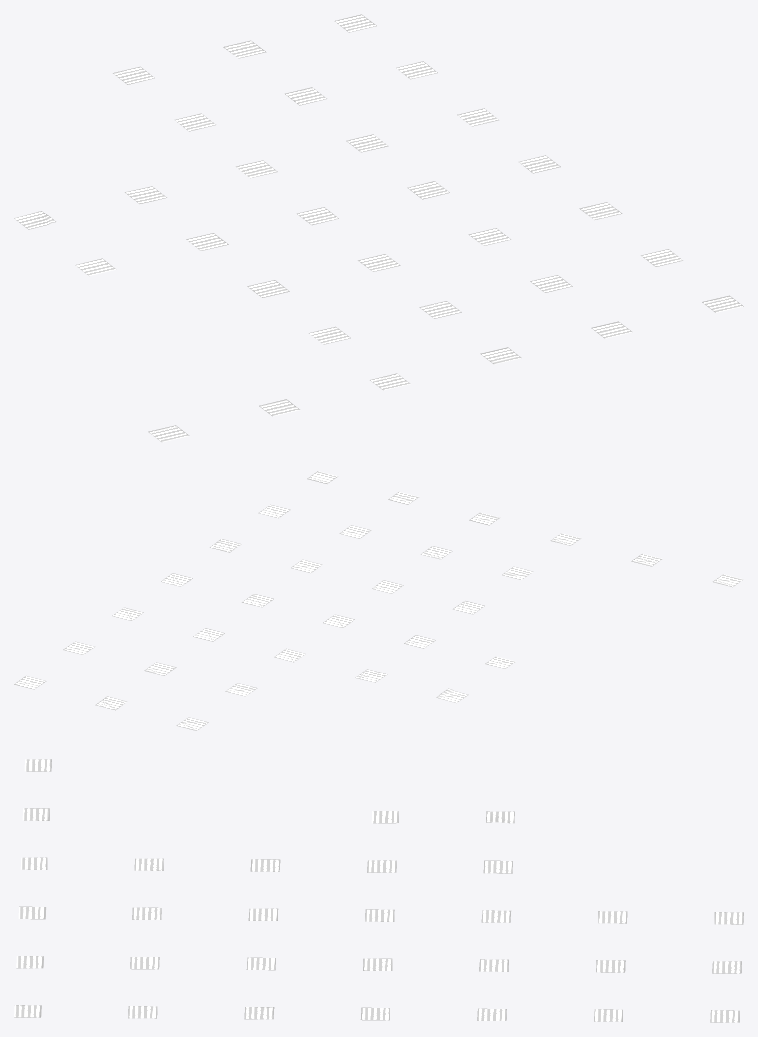
Rendered from roofLamps.glb.
The picture shows the model from 3 angles, top to bottom: view 1: azimuth 30°, elevation 25°; view 2: azimuth 150°, elevation 25°; view 3: azimuth 270°, elevation 25°; orthographic projection. The views are drawn at different scales.
Visible parts, largest first — view 1: Floor.003; view 2: Floor.003; view 3: Floor.003.
Boxes of the visible parts, x1,y1,x2,y2 form: Floor.003: (14, 14, 743, 442); Floor.003: (14, 471, 743, 730); Floor.003: (14, 759, 743, 1022).
Bounding box in the file's own units: 11.53 × 0.0396 × 13.49.
1 material, 1 textured.
